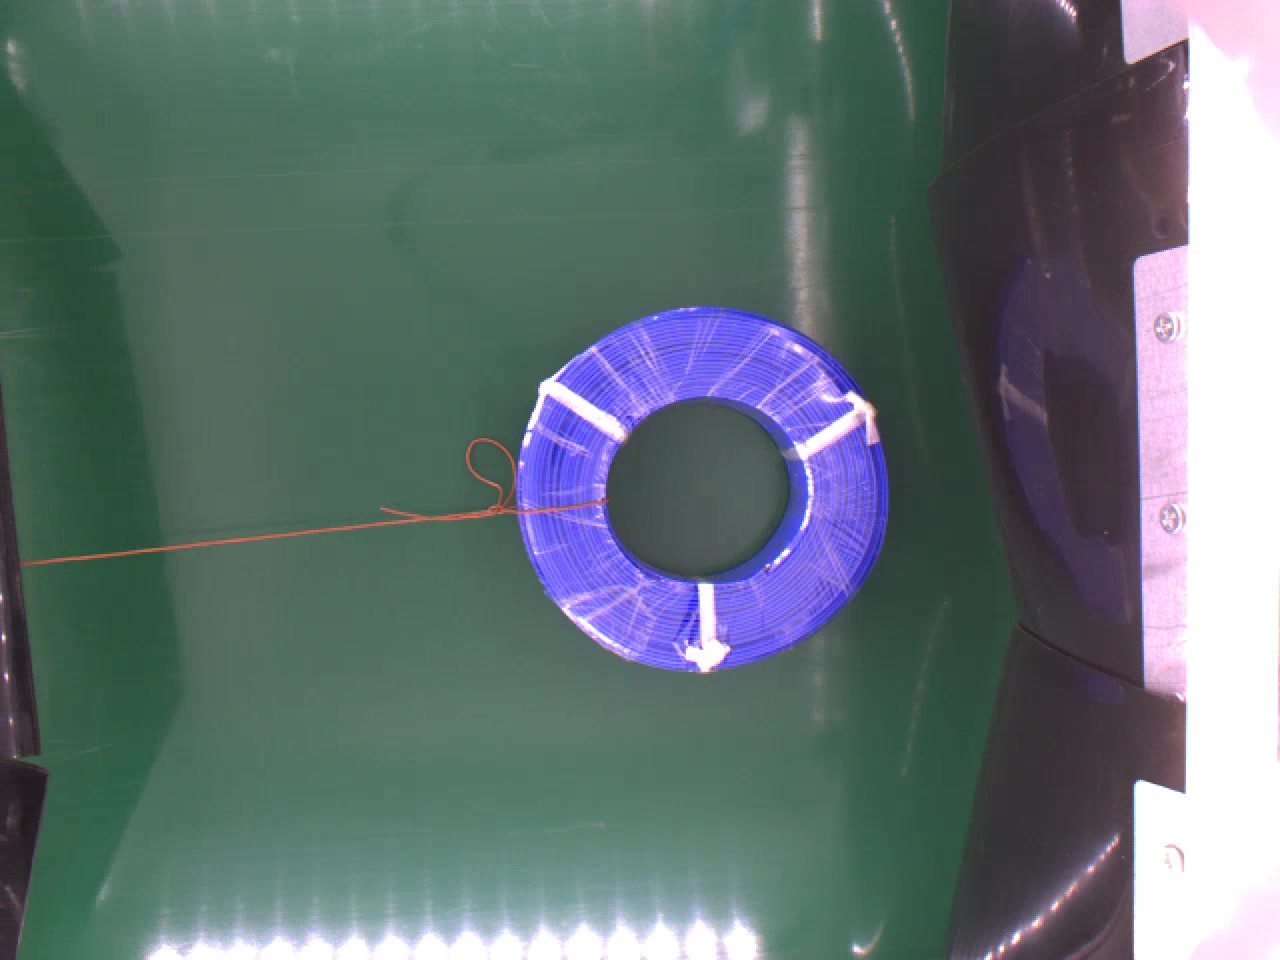blue: (515, 304, 887, 672)
